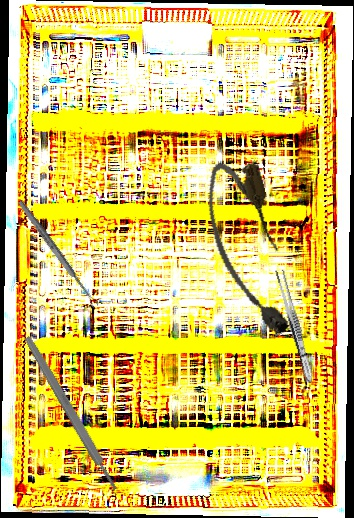Cannula: (197, 154, 300, 345)
Dressing Forceps: (272, 267, 317, 385)
Scalpel Handle: (22, 334, 120, 493)
Surgical Spoon: (16, 199, 100, 309)
